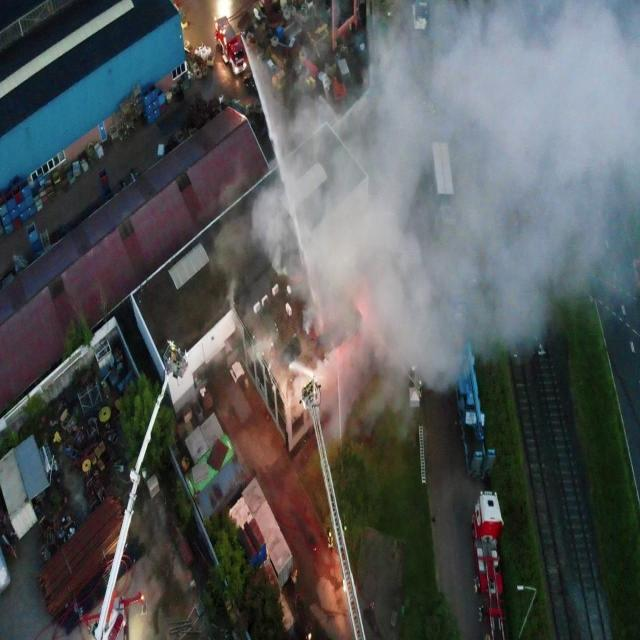Smoke: (209, 0, 640, 438)
